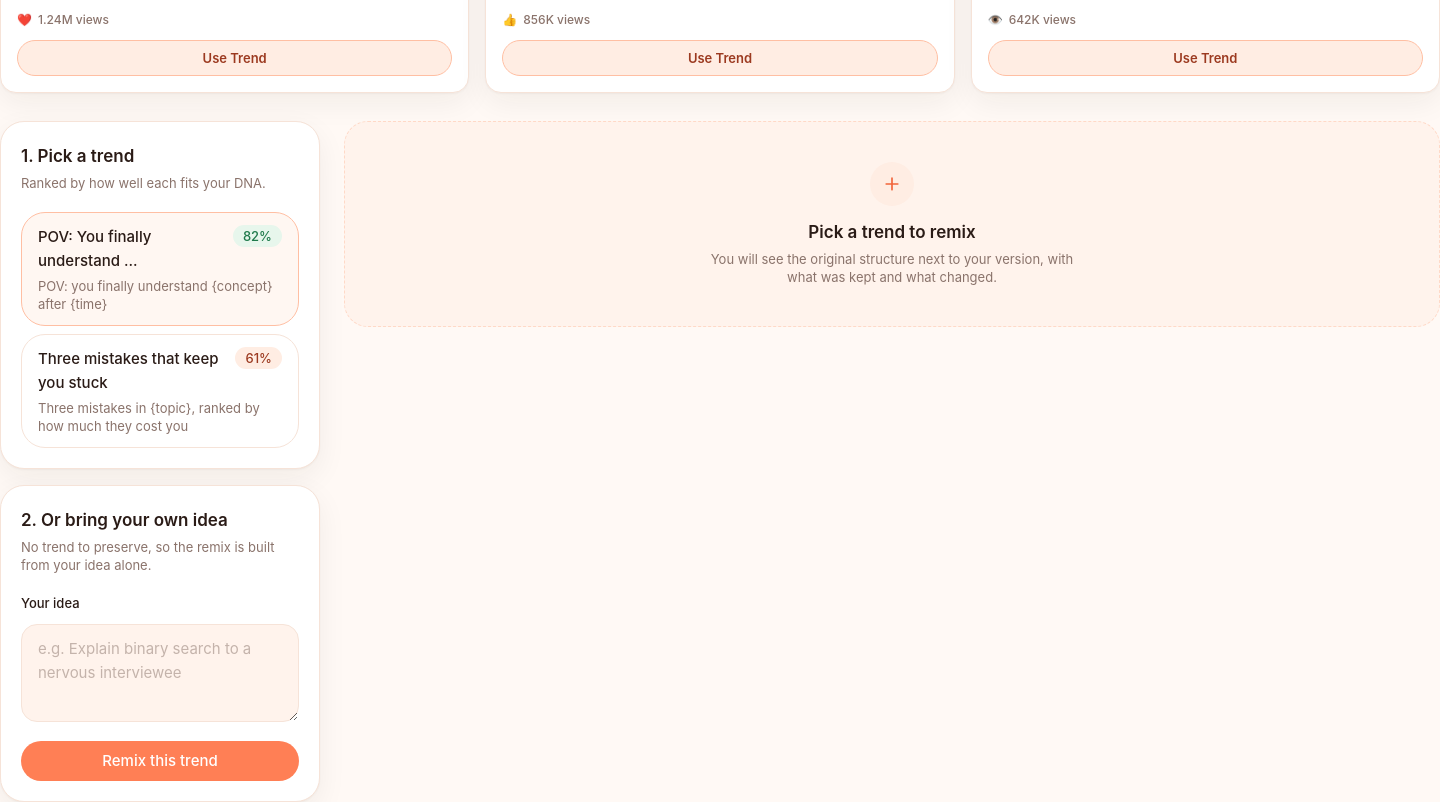
TrendRemixPage › shows an error state with a retry when the model fails
(page scrolled)
Click the button "Remix this trend" at (160, 760), box [21,740,299,780]
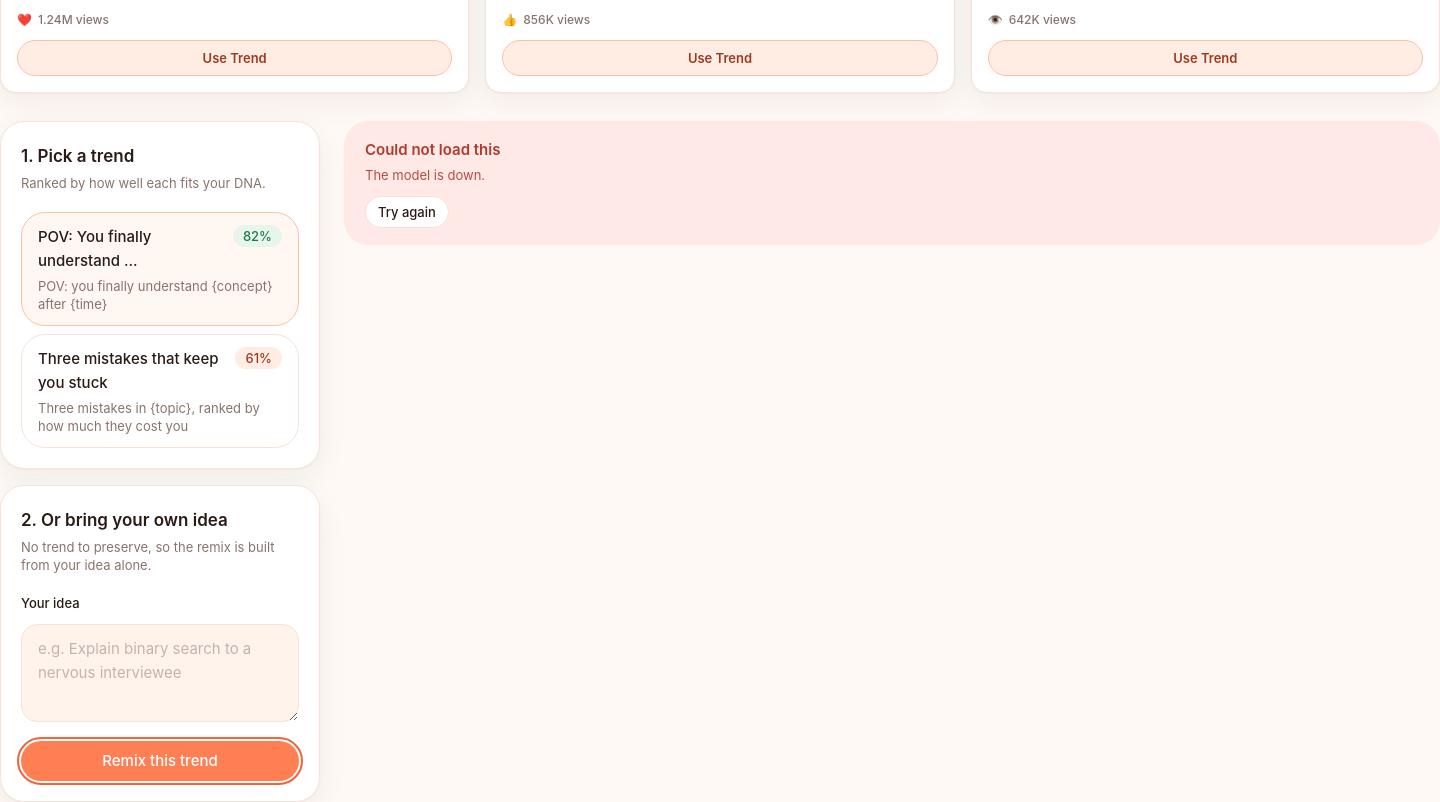
expect the message shows "The model is down.": met, box [365,167,485,183]
expect the button "Try again" is shown: met, box [365,196,449,228]
